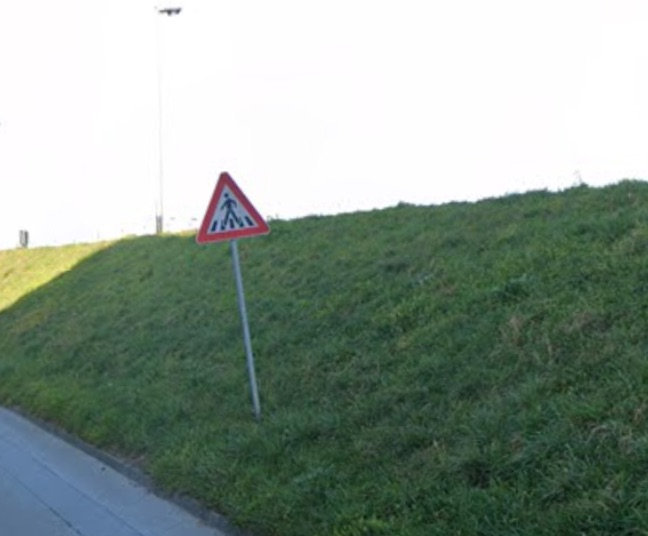Približavanje pješačkom prijelazu: (196, 172, 270, 244)
